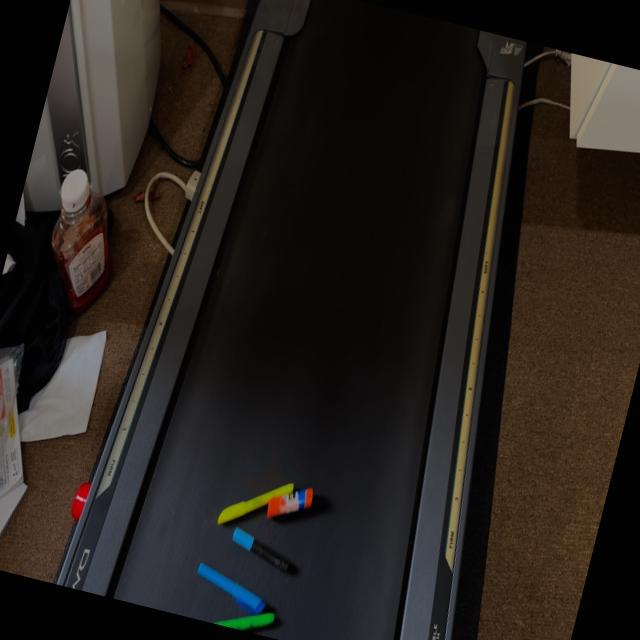Trash: (180, 457, 320, 640)
